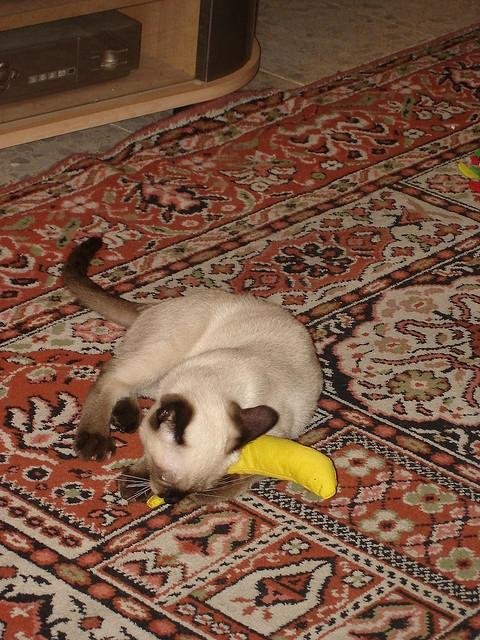banana: (147, 434, 337, 508)
